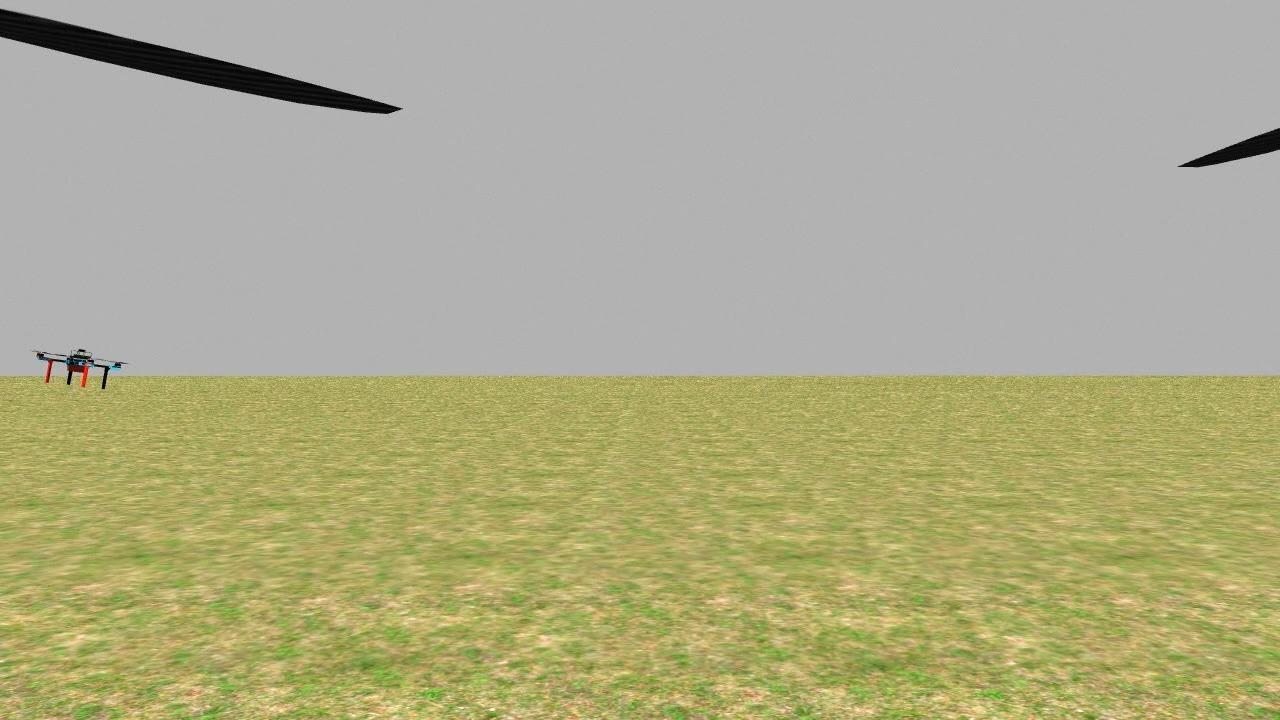UAV: (31, 338, 120, 392)
